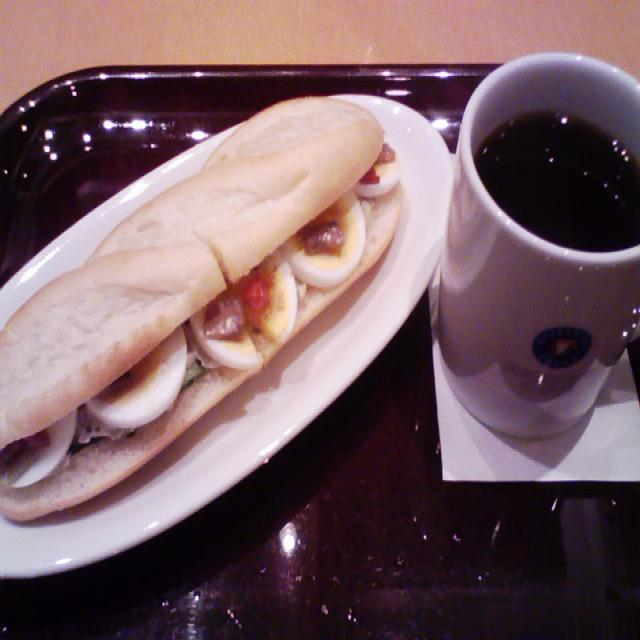三明治: (0, 117, 396, 507)
